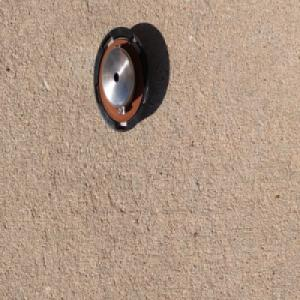FuelCap: (91, 22, 152, 135)
